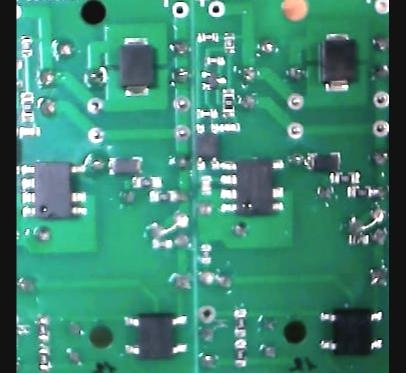chip-capacitor: (19, 124, 42, 137), (199, 173, 212, 194), (220, 121, 241, 131)
chip-resistor: (233, 305, 249, 336), (233, 338, 249, 368), (221, 86, 236, 117), (329, 169, 362, 183), (130, 174, 162, 188), (20, 90, 34, 120), (37, 342, 52, 370), (147, 188, 178, 201), (346, 184, 377, 197), (222, 30, 237, 53), (36, 313, 49, 339), (196, 106, 220, 118), (348, 232, 370, 245), (21, 33, 33, 56), (199, 241, 212, 262), (151, 237, 174, 248), (204, 54, 227, 65), (197, 31, 219, 42)
diode: (319, 30, 357, 92), (118, 36, 155, 97), (107, 154, 144, 176), (305, 149, 342, 170)
ic: (19, 160, 89, 219), (219, 156, 286, 216), (317, 306, 385, 355), (122, 310, 189, 357), (193, 121, 221, 169)
transistor: (199, 68, 228, 90)
